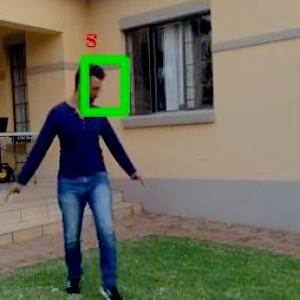land: (11, 53, 169, 299)
